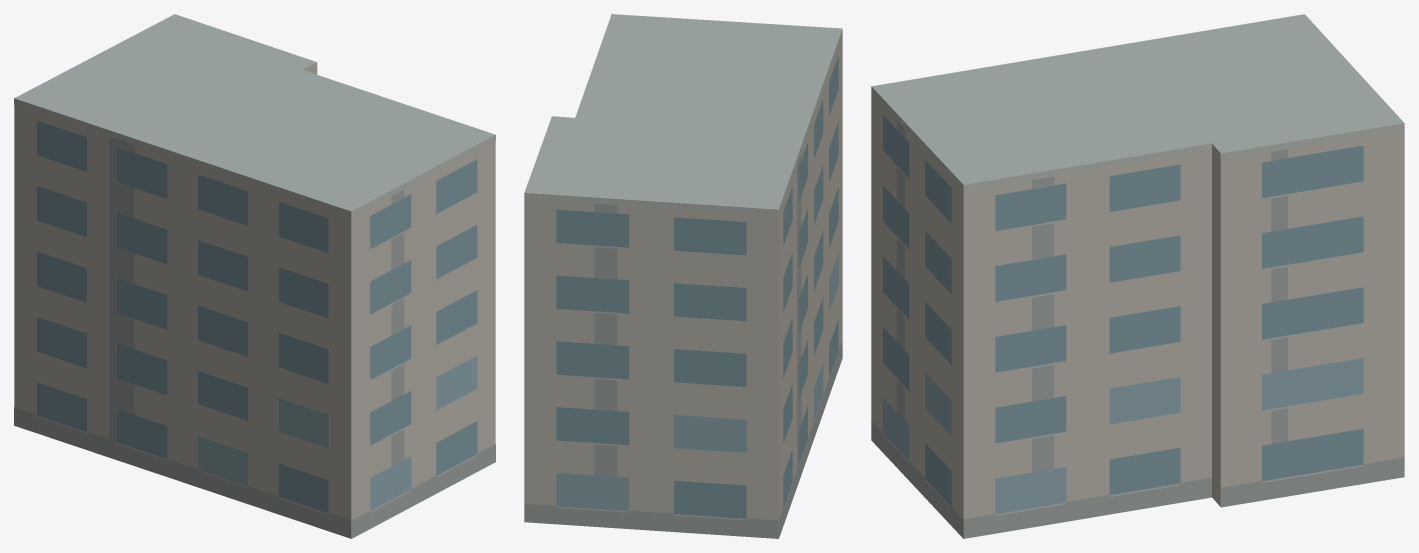
The model's file is survey-upis-32889165.glb.
The picture shows the model from 3 angles, left to right: view 1: azimuth 30°, elevation 25°; view 2: azimuth 150°, elevation 25°; view 3: azimuth 270°, elevation 25°; orthographic projection. The views are drawn at different scales.
Parts seen in each view (by area): view 1: survey-upis-32889165.tmp; view 2: survey-upis-32889165.tmp; view 3: survey-upis-32889165.tmp.
Part boxes in pixels (bbox=[...]): survey-upis-32889165.tmp: bbox=[14, 14, 495, 538]; survey-upis-32889165.tmp: bbox=[524, 14, 842, 538]; survey-upis-32889165.tmp: bbox=[871, 14, 1404, 538].
Bounding box in the file's own units: 13.47 × 13 × 17.76.
